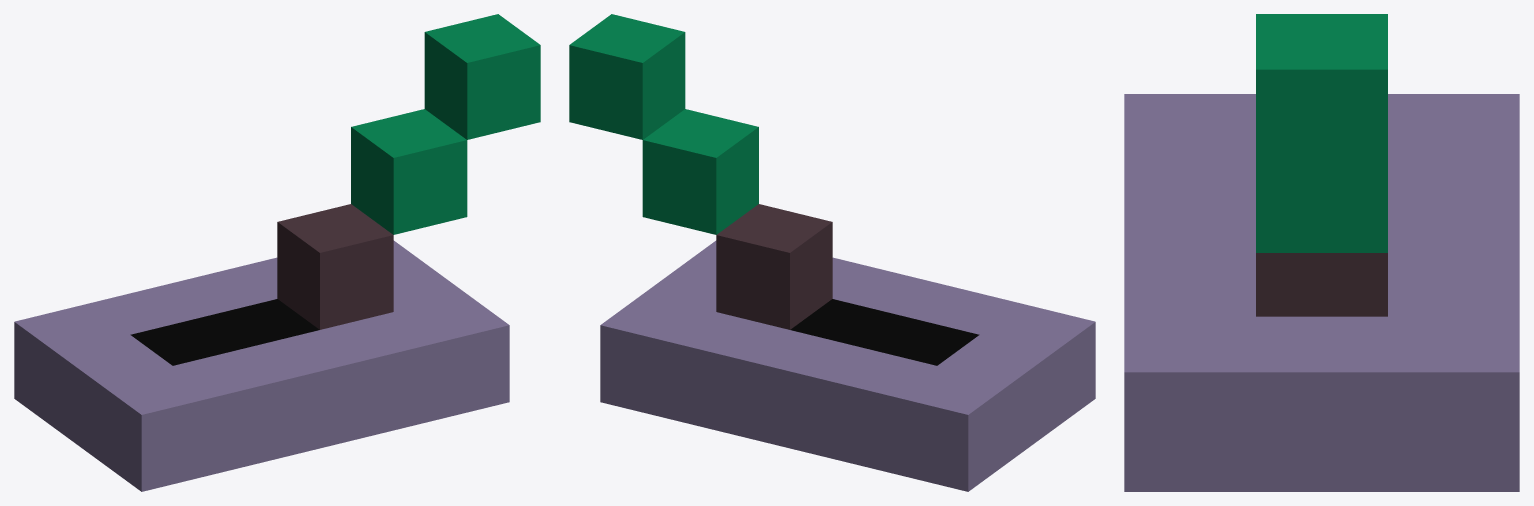
File: lever_a_b_green_on.obj
3 views of the same model, side by side, from view 1: azimuth 30°, elevation 25°; view 2: azimuth 150°, elevation 25°; view 3: azimuth 270°, elevation 25° (orthographic). The views are drawn at different scales.
Bounding box in the file's own units: 0.6 × 0.4 × 0.3.
Materials: 1 (1 with a texture image).
